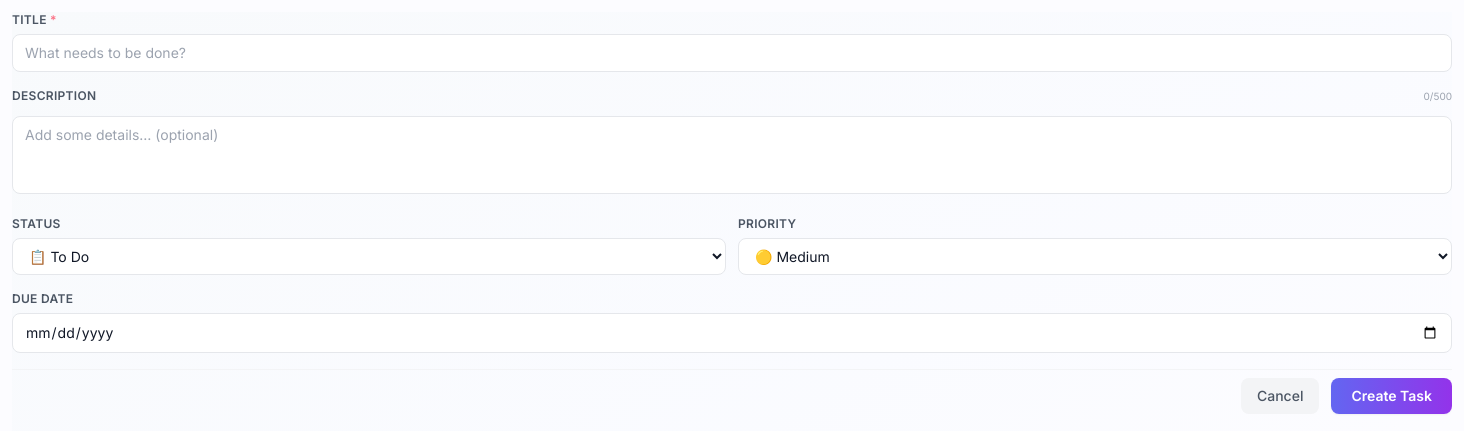
Test: API error handling (Req 11.10) › shows a generic toast message when error has no response body
The image size is (1464, 431).
Use fireEvent.change to avoid character-by-character typing issues
Type "Another Task" into the field labelled "Title *" at (732, 53), box [12,34,1452,72]
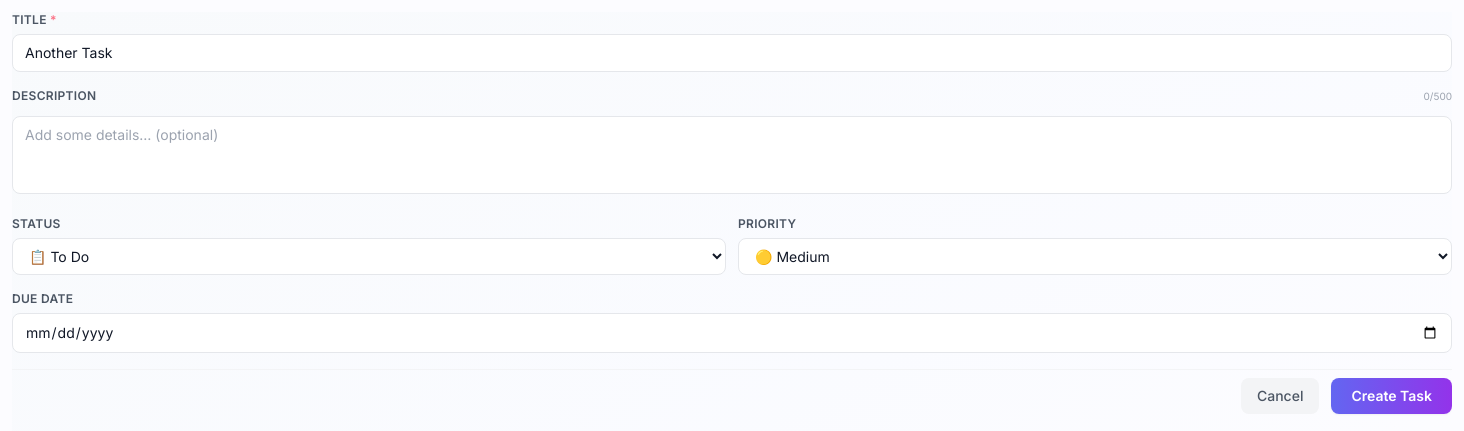
Click the button "Create Task" at (1392, 396), box [1331,378,1452,414]
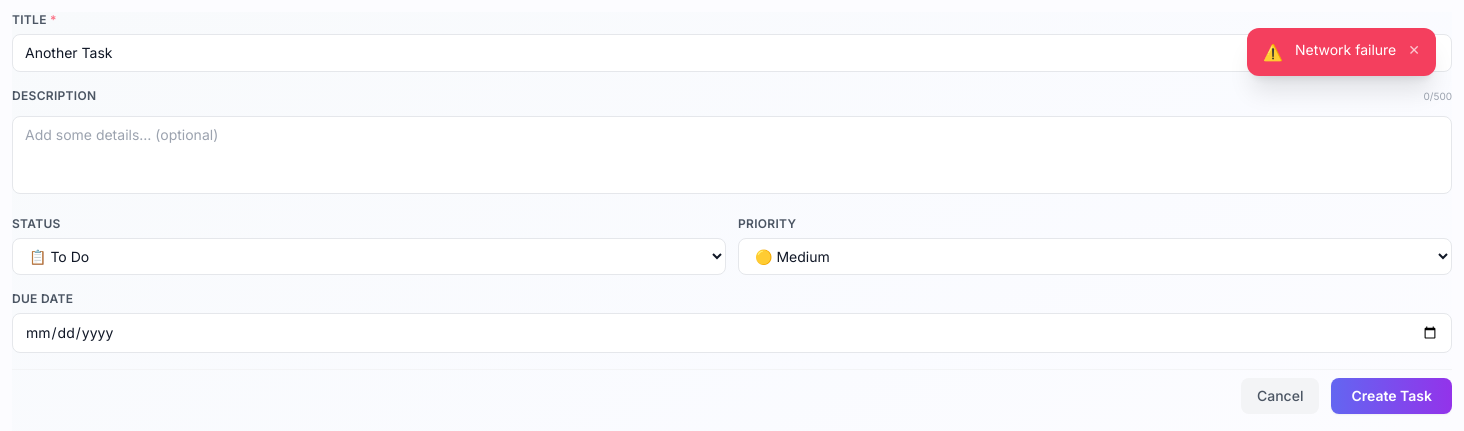
Now the text "Network failure" is shown, box [1295,41,1396,58]
